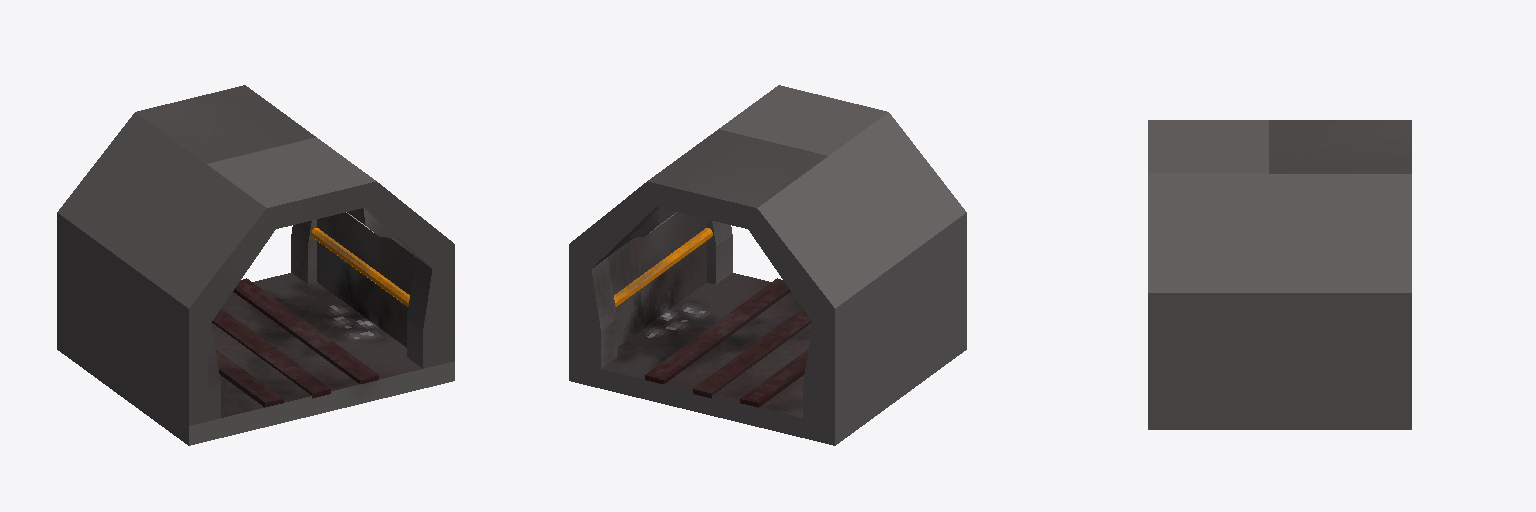
The picture shows the model from 3 angles: view 1: azimuth 30°, elevation 25°; view 2: azimuth 150°, elevation 25°; view 3: azimuth 270°, elevation 25°; orthographic projection.
Parts seen in each view (by area): view 1: tube, cuboid, cylinder; view 2: tube, cuboid, cylinder; view 3: tube, cuboid.
Part boxes in pixels (x1,y1,x2,y2): tube: (57, 85, 454, 425); cuboid: (57, 273, 454, 445); cylinder: (311, 228, 409, 306); tube: (569, 85, 966, 425); cuboid: (569, 273, 966, 445); cylinder: (614, 228, 712, 306); tube: (1148, 120, 1411, 409); cuboid: (1148, 410, 1411, 429).
Bounding box in the file's own units: 1.75 × 1.38 × 1.51.
1 materials, 1 textured.